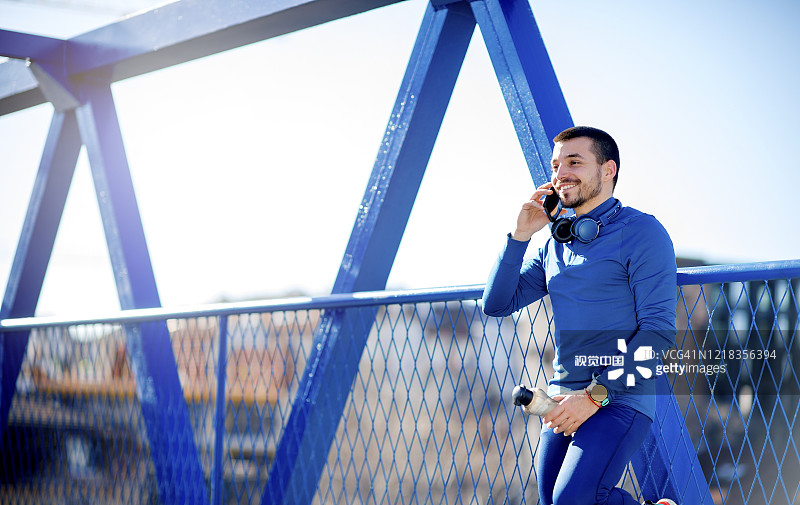calling: (505, 171, 566, 247)
no-phone: (500, 370, 616, 442)
